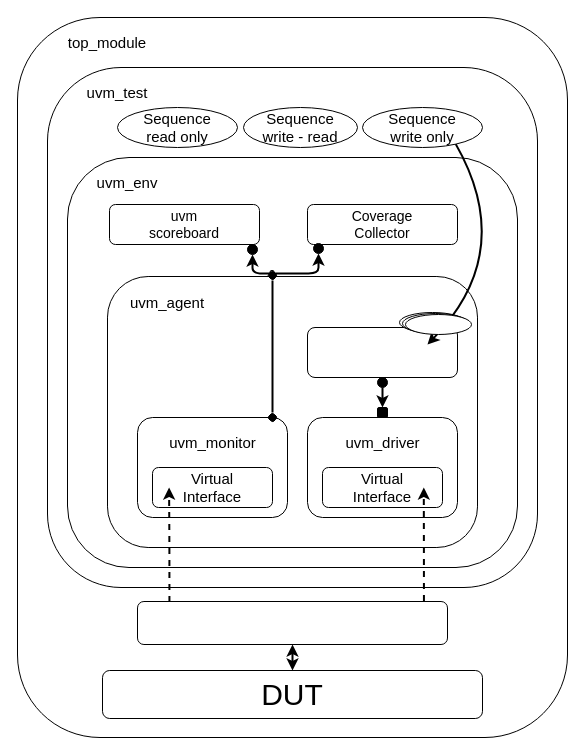
This 585x755 diagram has some shape labels left out. The box of each missing label's shape, as (x1, y1, x2, y2) in pixels:
Interface: (136, 600, 448, 644)
Seq item: (404, 314, 472, 334)
uvm_sequencer: (306, 326, 458, 378)
